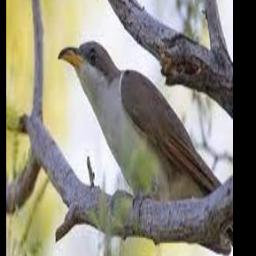Cuckoo: (58, 40, 224, 202)
